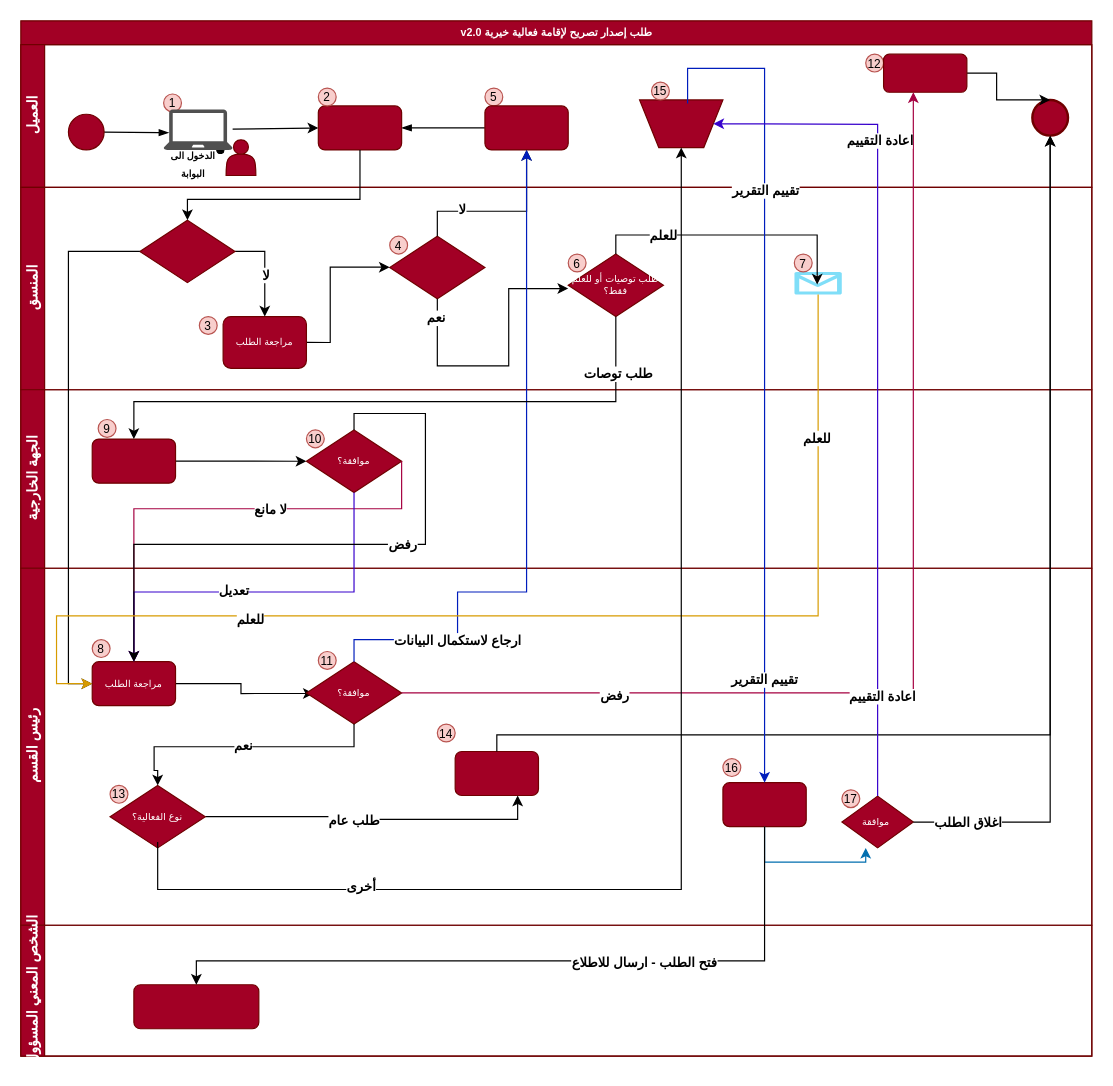
Some shapes in this 1113 by 1086 pixel diagram are drawn without their labels. The centre of each missing label's shape, as x and y in pixels:
"ارسال رسالة إعتذار" belongs at [924,72].
"ارسال رسالة موافقة مرفق تصريح" belongs at [496,773].
"ارفاق تقارير المالية بعد انتهاء الفعالية" belongs at [680,123].
"استكمال البيانات المطلوبة و اعادة الارسال" belongs at [526,127].
"اطلاع على التقارير ( فتح الطلب للاطلاع للشخص المعتي المسؤول)" belongs at [196,1006].
"اغلاق" belongs at [1050,117].
"الطلب مكتمل؟" belongs at [437,267].
"بداية" belongs at [85,131].
"تعبئة وتقديم نموذج الطلب" belongs at [359,127].
"رسالة عن طريق البريد الالكتروني" belongs at [817,282].
"مراجعة التقارير" belongs at [764,804].
"مراجعة الطلب و اعطاء التوصيات" belongs at [133,460].
"من رئيس القسم؟ في حال مرجع من رئيسر القسم" belongs at [187,251].
